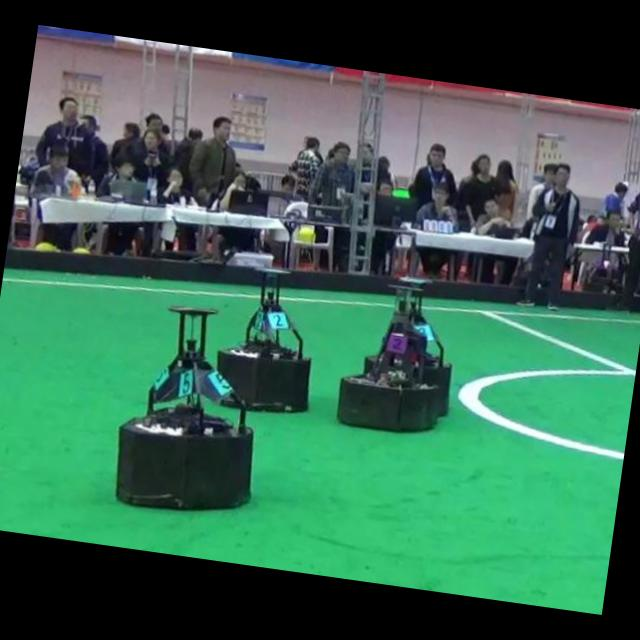robot: (117, 306, 253, 509), (337, 286, 440, 431), (217, 269, 311, 413), (414, 323, 452, 417)
